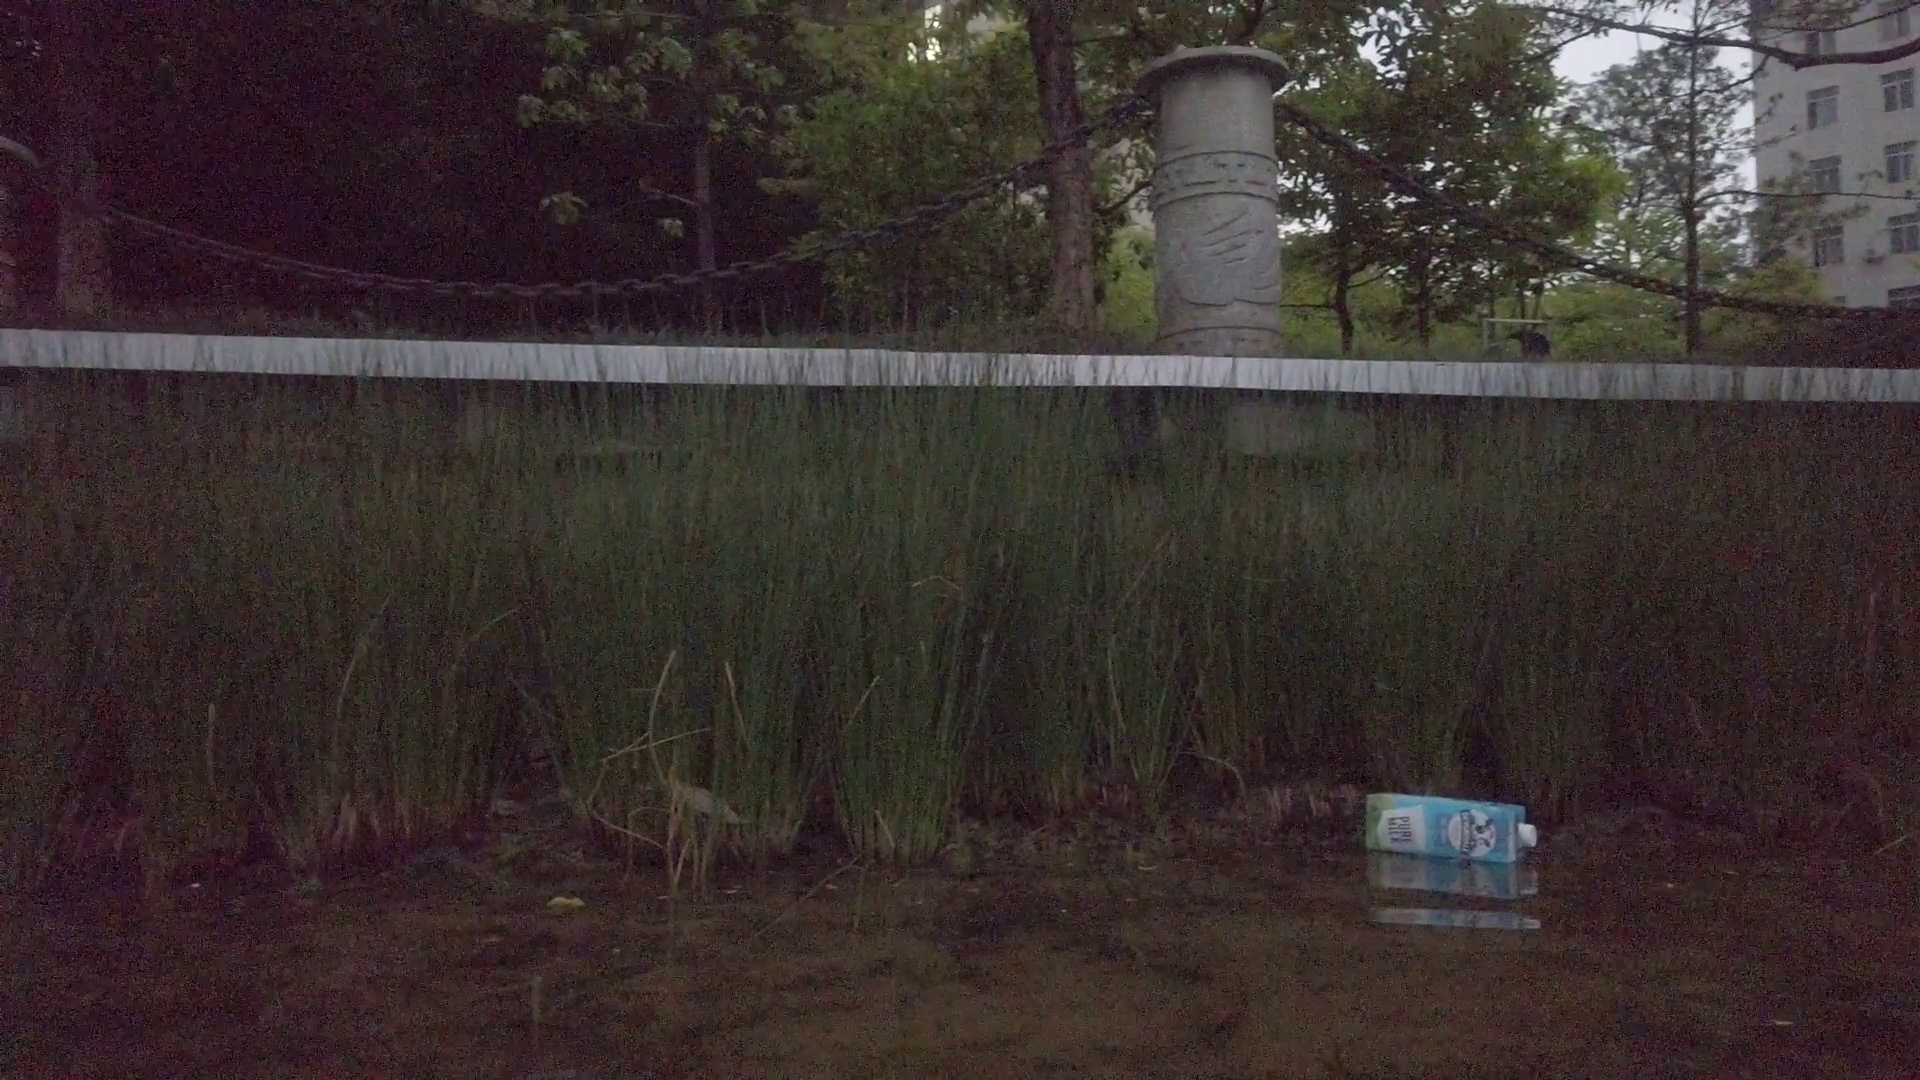carton: (1365, 789, 1540, 869)
